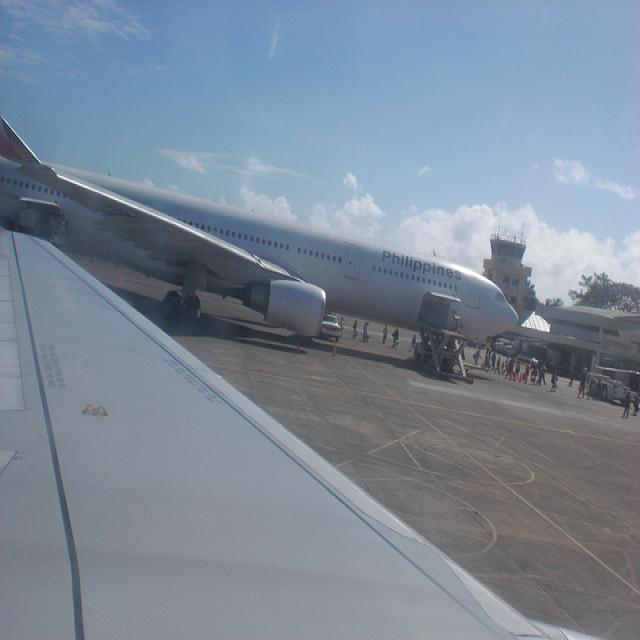Vehicle: (585, 372, 637, 402), (319, 314, 342, 343)
